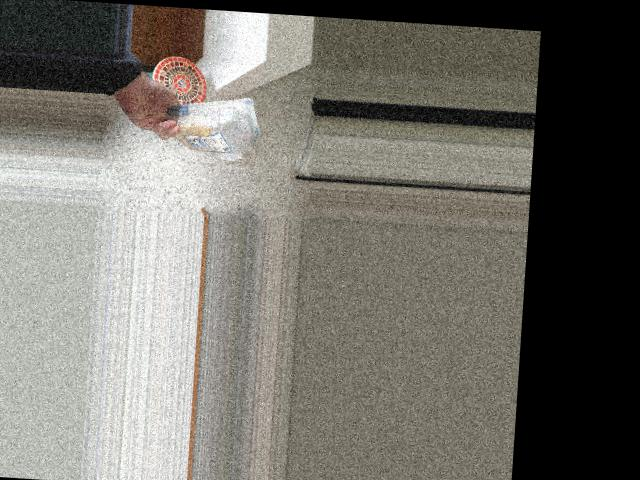cheese: (166, 97, 263, 155)
